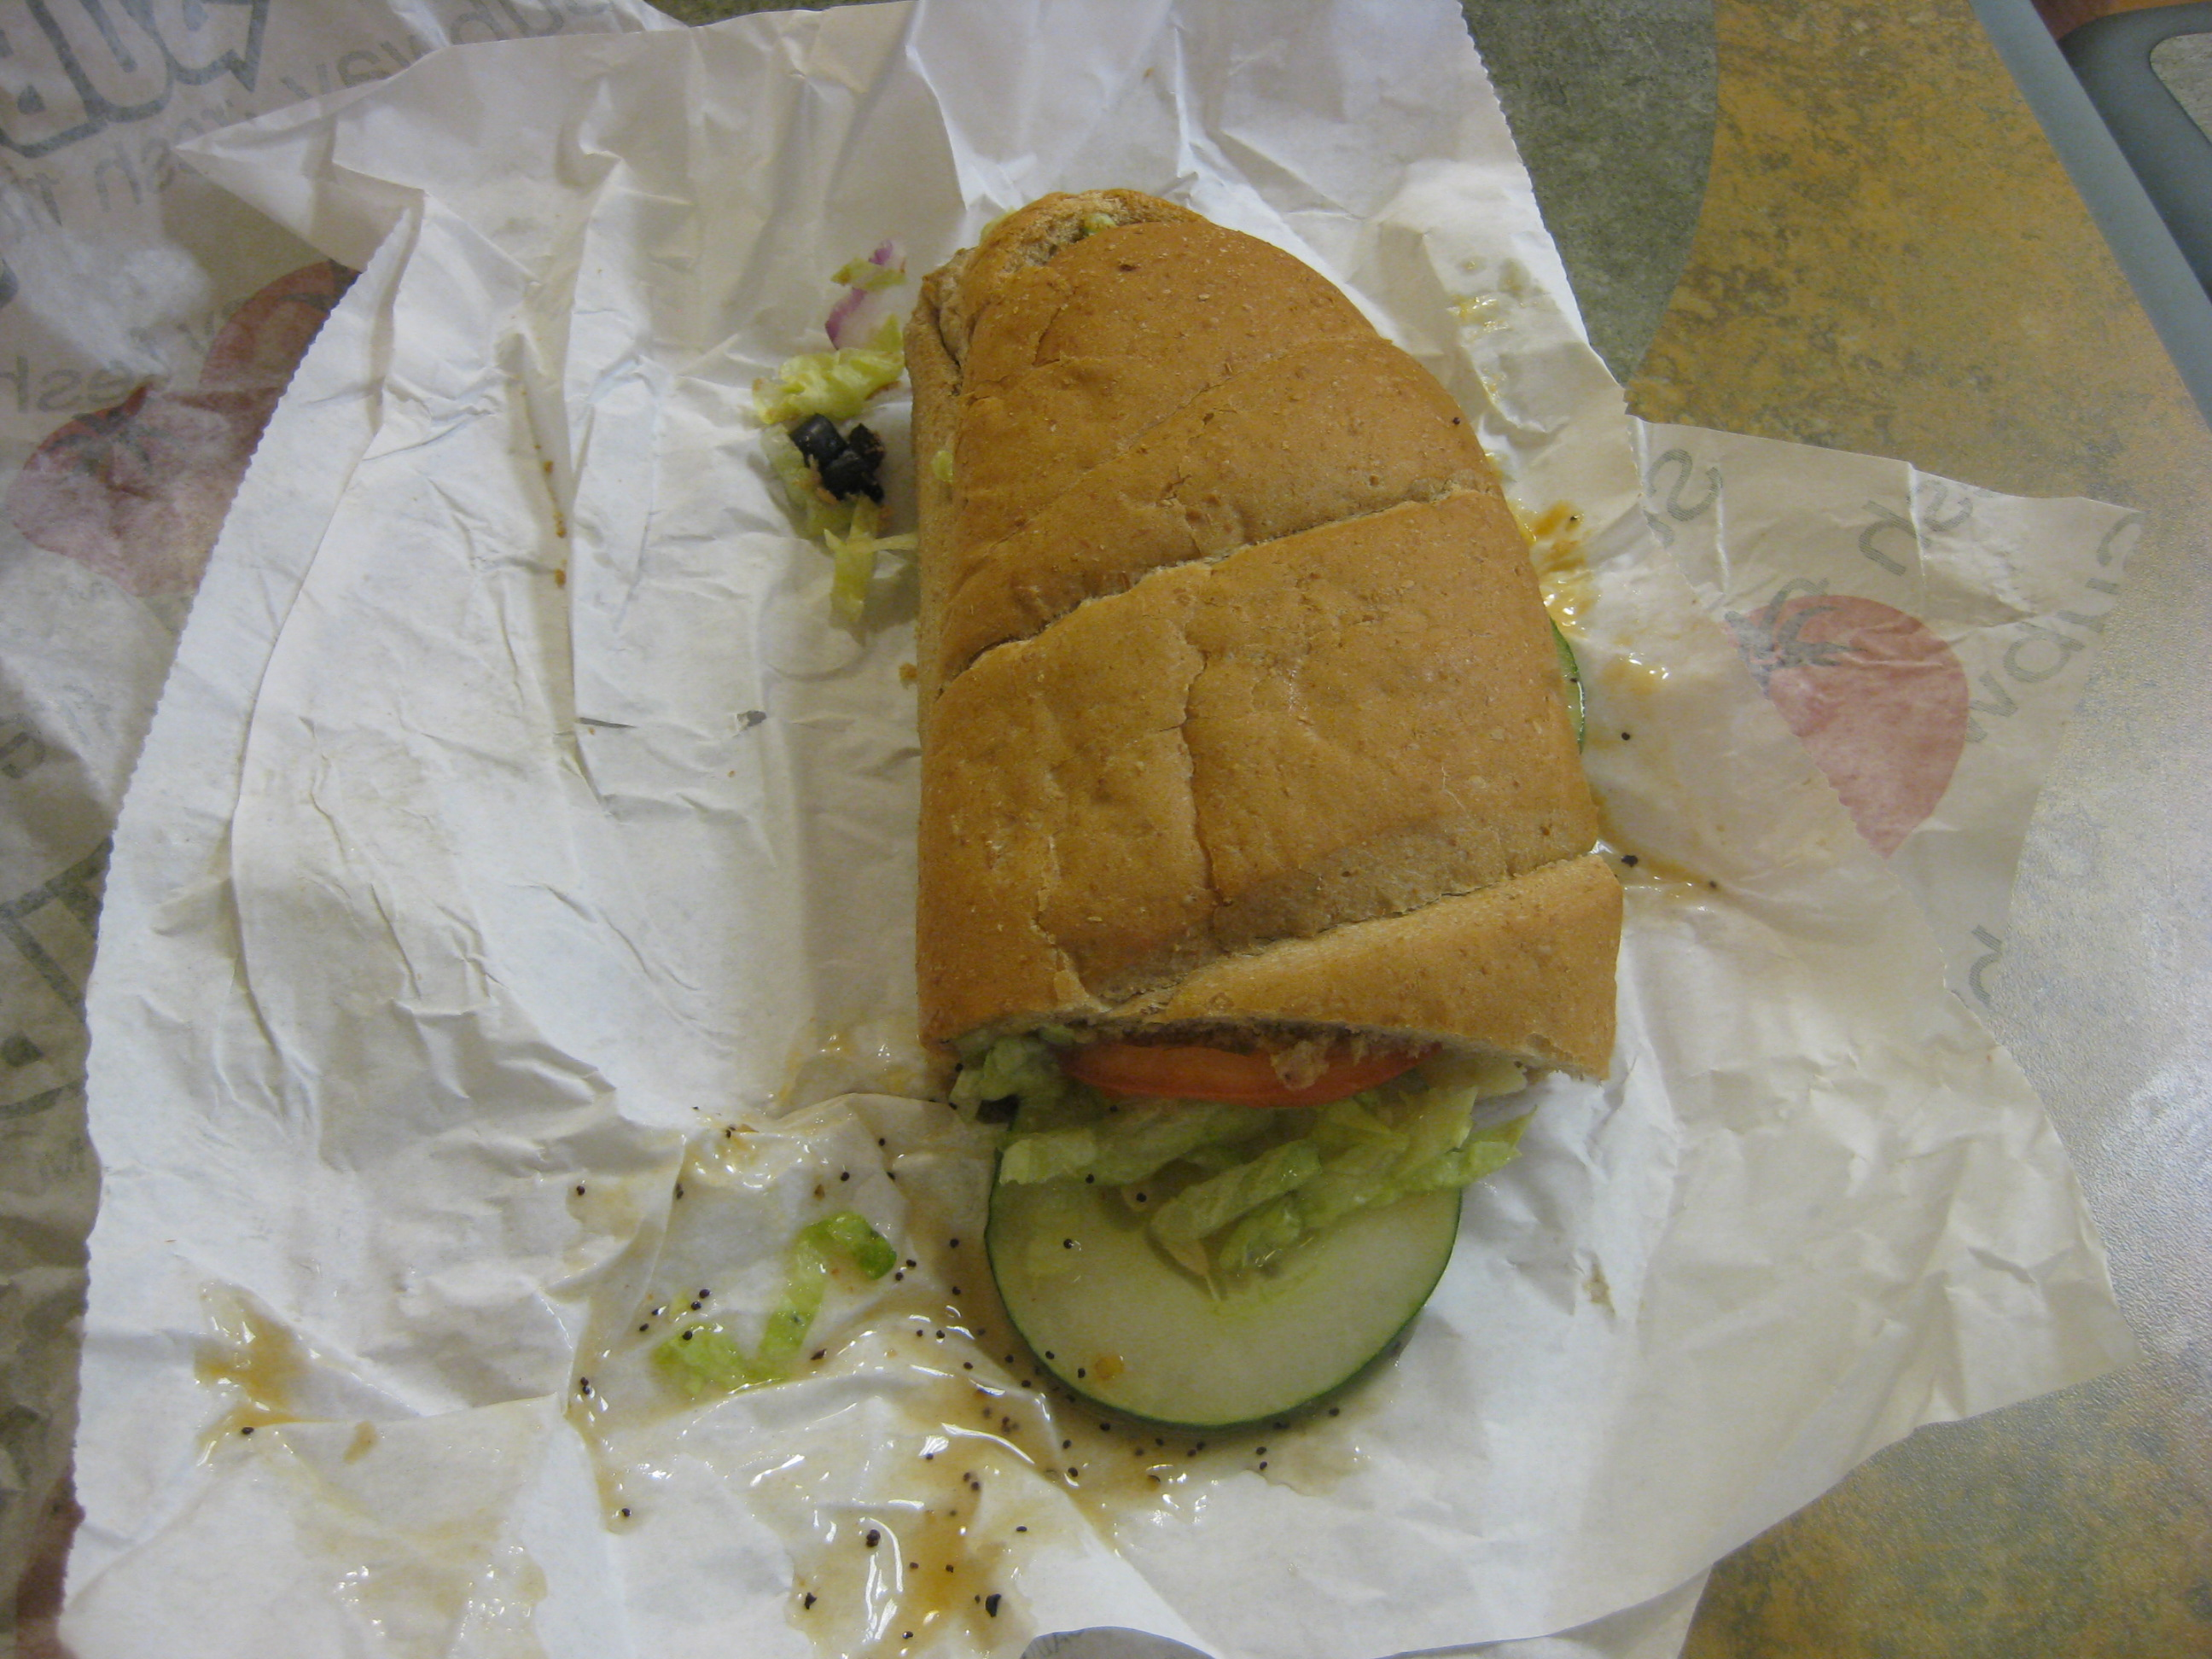sub: (880, 159, 1643, 1458)
